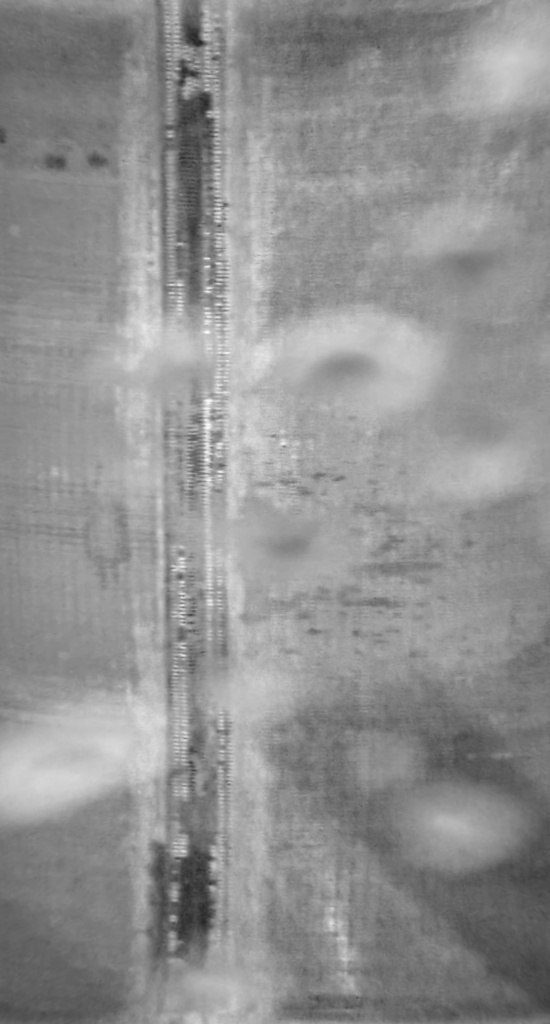splice: (147, 1, 234, 1024)
